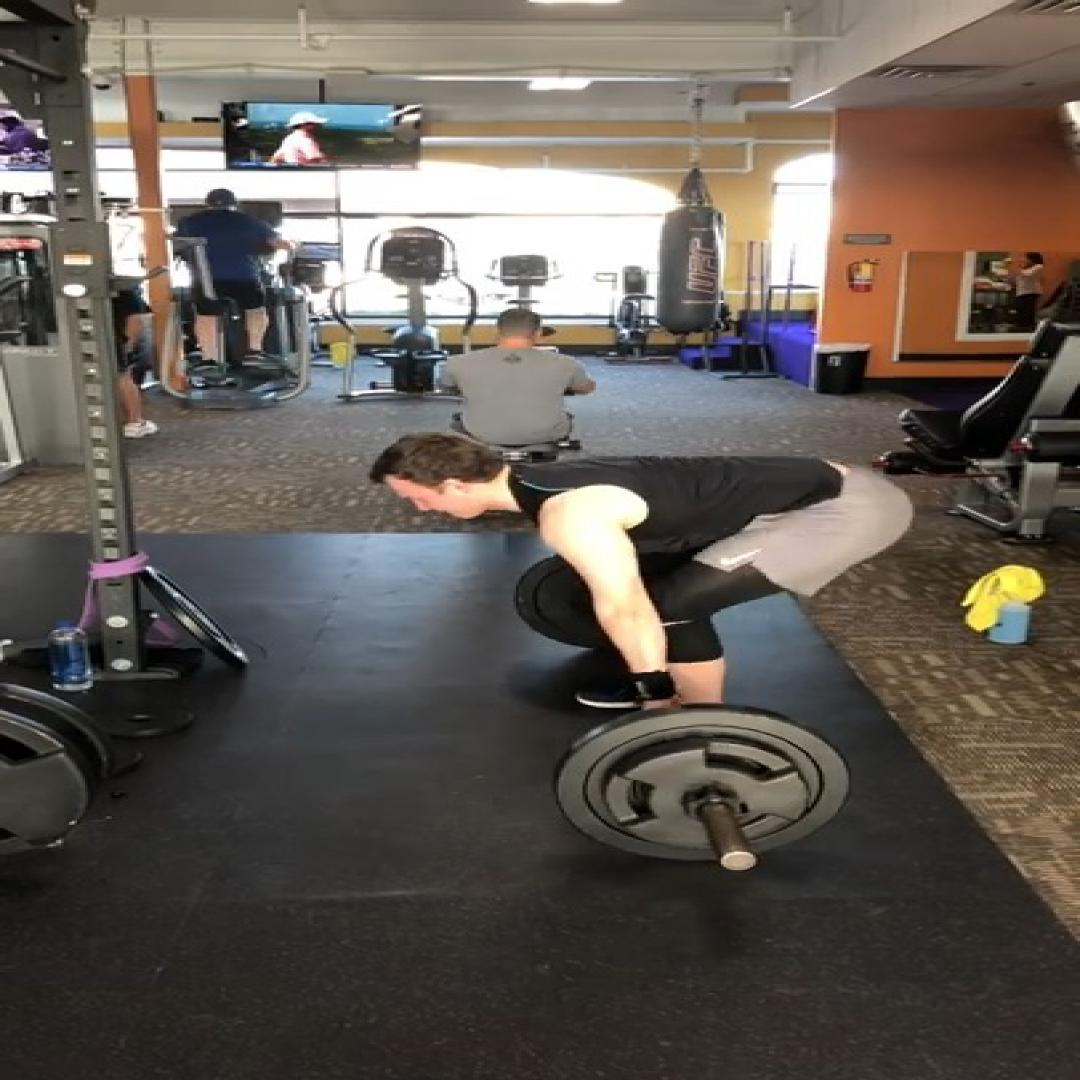Bar: (721, 852, 755, 872)
Barbell: (556, 711, 849, 859)
